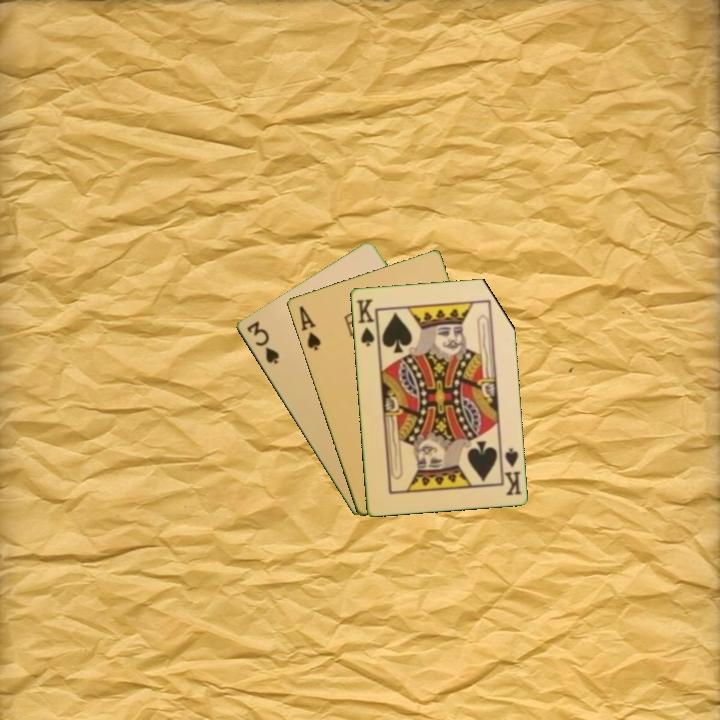3s: (243, 317, 282, 367)
As: (295, 302, 323, 354)
Ks: (497, 443, 523, 498), (353, 295, 378, 349)
